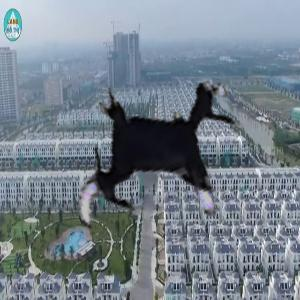drone: (56, 57, 266, 267)
